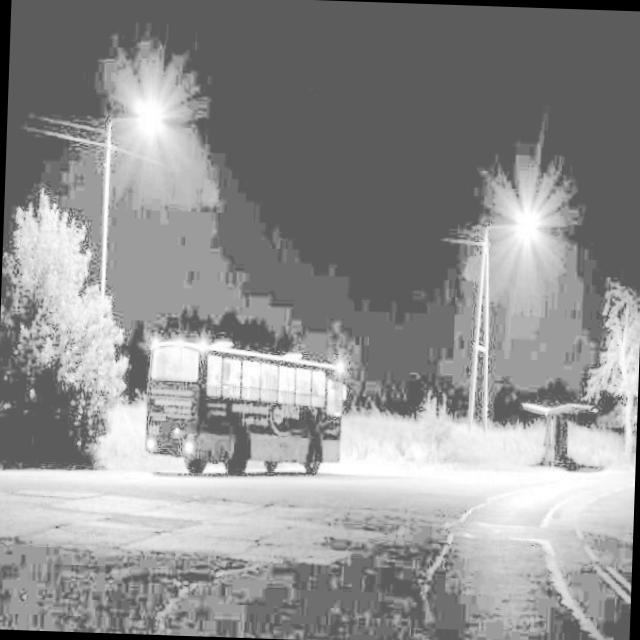Bus: (133, 321, 360, 518)
Tree: (0, 195, 124, 461), (598, 301, 640, 464)
